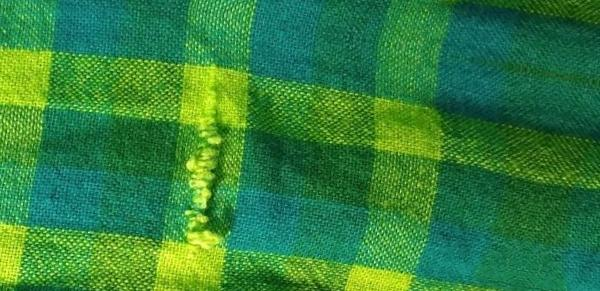knot: (182, 76, 231, 250)
